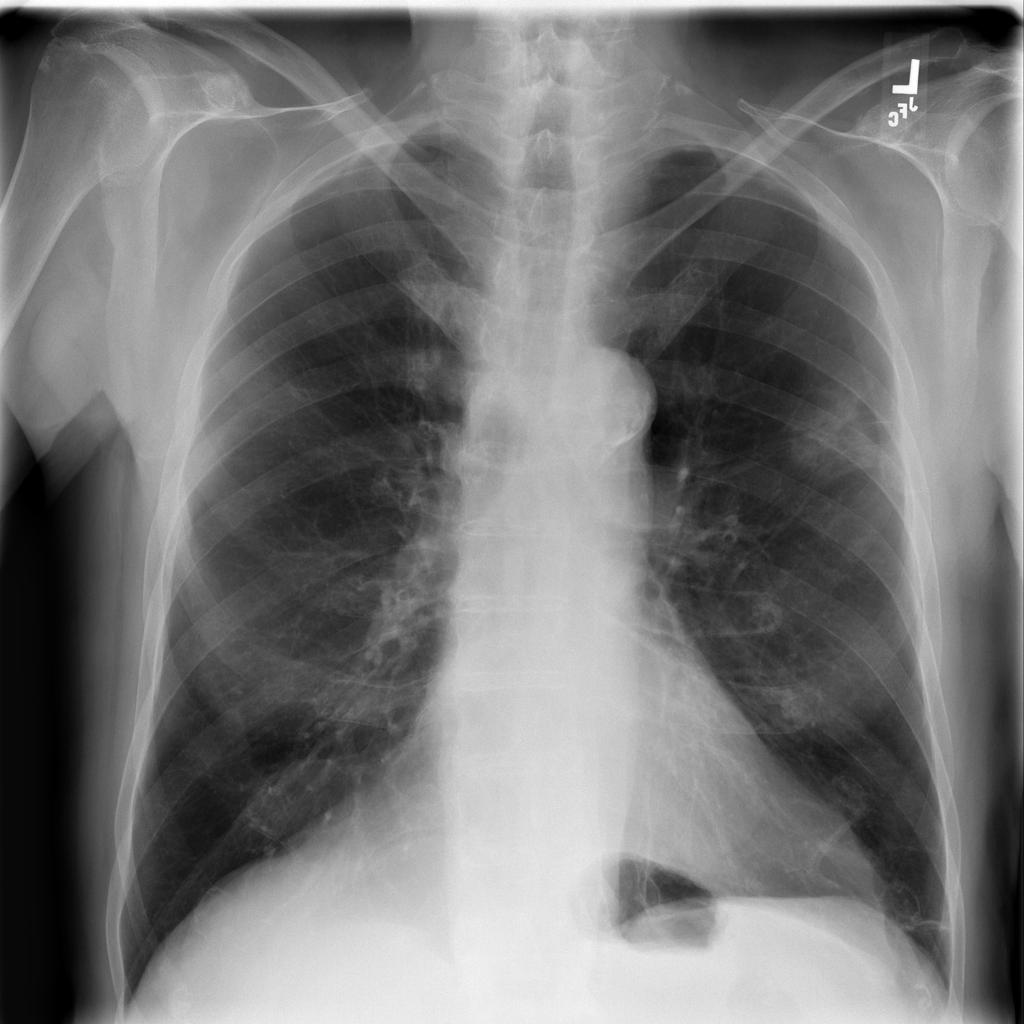nodule: (769, 365, 894, 495)
